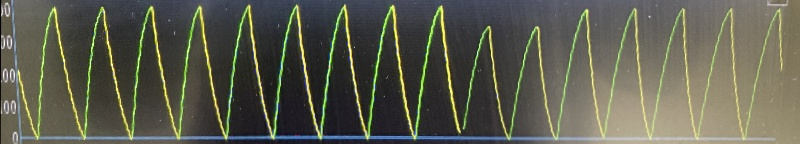normal_volume: (28, 2, 752, 143)
